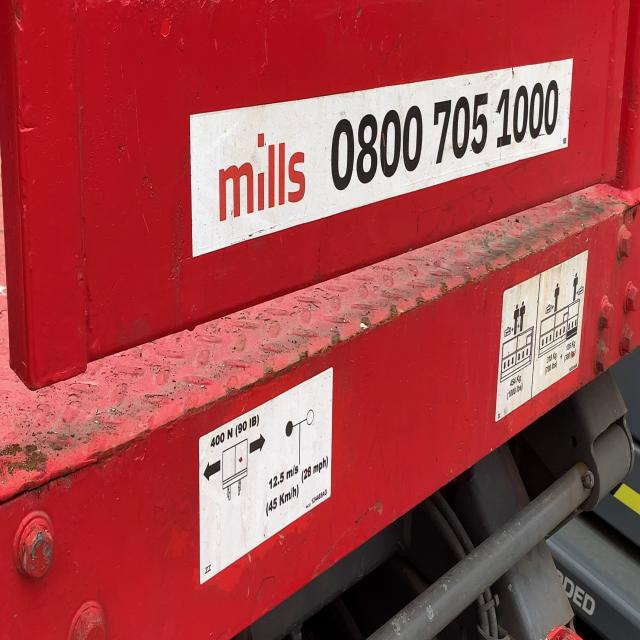Adesivo Longo: (188, 53, 575, 267)
